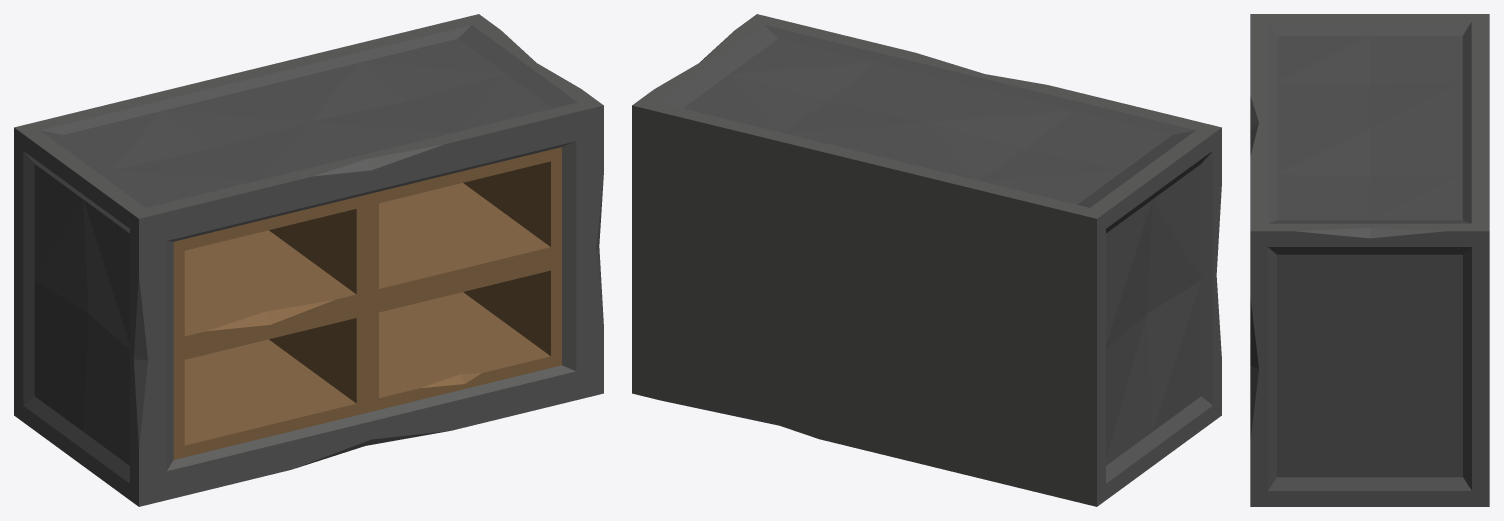
Rendered from SFHW_Roof_Shelving_002.fbx.
The picture shows the model from 3 angles, left to right: view 1: azimuth 30°, elevation 25°; view 2: azimuth 150°, elevation 25°; view 3: azimuth 270°, elevation 25°; orthographic projection. The views are drawn at different scales.
Parts seen in each view (by area): view 1: SFHW_Roof_Shelving_002; view 2: SFHW_Roof_Shelving_002; view 3: SFHW_Roof_Shelving_002.
Boxes of the visible parts, <box> form: SFHW_Roof_Shelving_002: <box>14,14,603,506</box>; SFHW_Roof_Shelving_002: <box>632,14,1221,506</box>; SFHW_Roof_Shelving_002: <box>1250,14,1489,506</box>.
Bounding box in the file's own units: 191 × 113 × 88.97.
